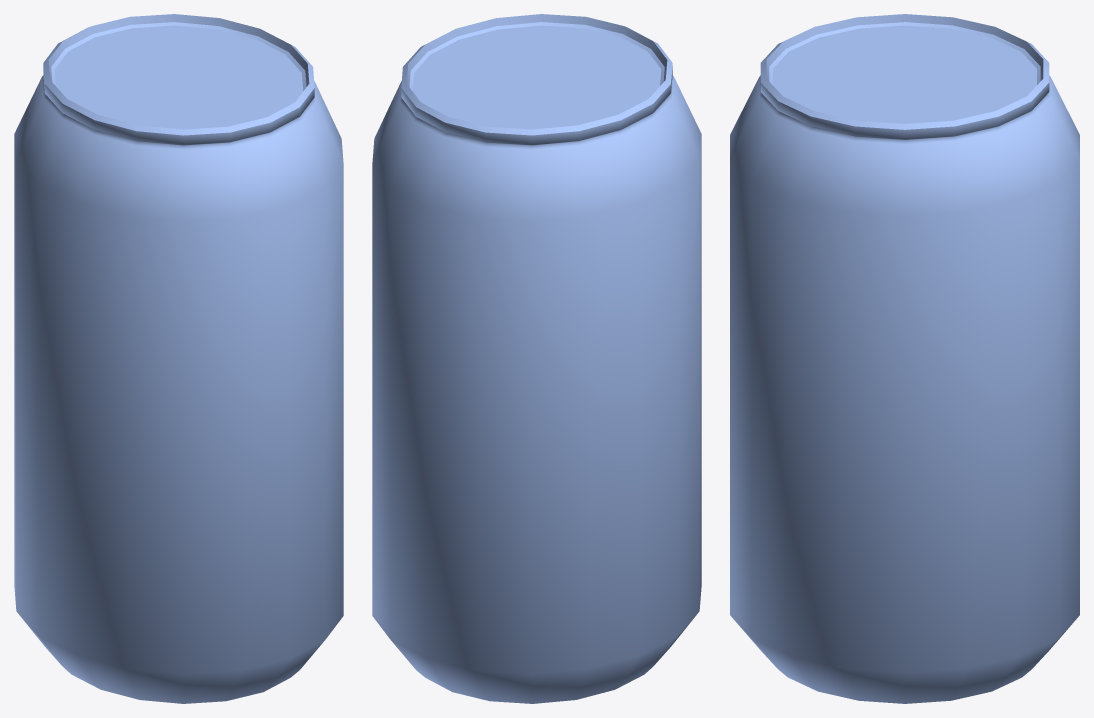
The model's file is LataNookaCola.fbx.
3 views of the same model, side by side, from view 1: azimuth 30°, elevation 25°; view 2: azimuth 150°, elevation 25°; view 3: azimuth 270°, elevation 25° (orthographic).
Parts seen in each view (by area): view 1: Lata; view 2: Lata; view 3: Lata.
Part boxes in pixels (left/top/right/bottom): Lata: left=14, top=14, right=343, bottom=703; Lata: left=372, top=14, right=701, bottom=703; Lata: left=730, top=14, right=1079, bottom=703.
Size of the model in its own units: 2.73 by 5.33 by 2.9.
